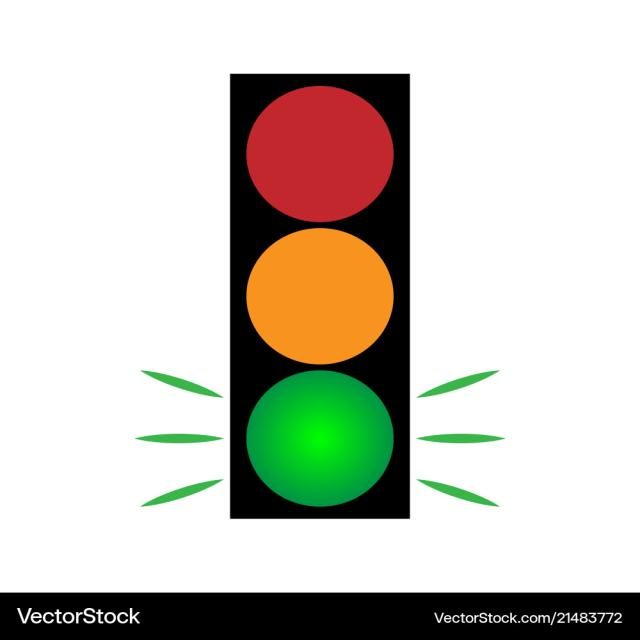green: (248, 372, 394, 506)
